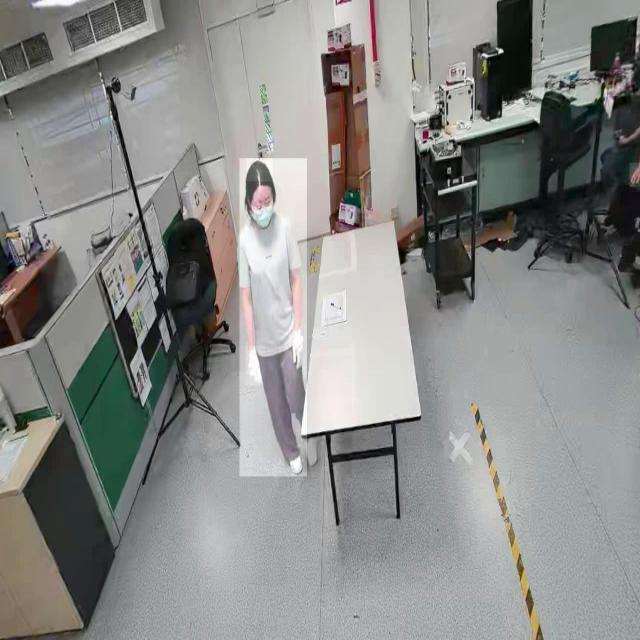face_mask: (247, 182, 277, 236)
hand_glove: (288, 324, 306, 378), (245, 346, 265, 386)
hand_noglove: (629, 162, 640, 188), (608, 85, 620, 97)
head_nohelmet: (246, 158, 272, 182)
person: (239, 158, 307, 478)
